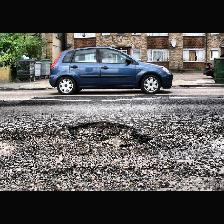pothole: (67, 120, 151, 148)
